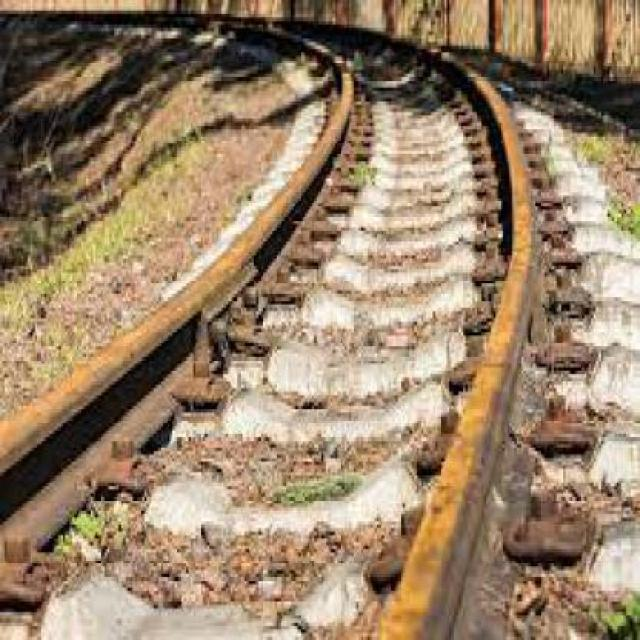defective: (7, 84, 554, 638)
